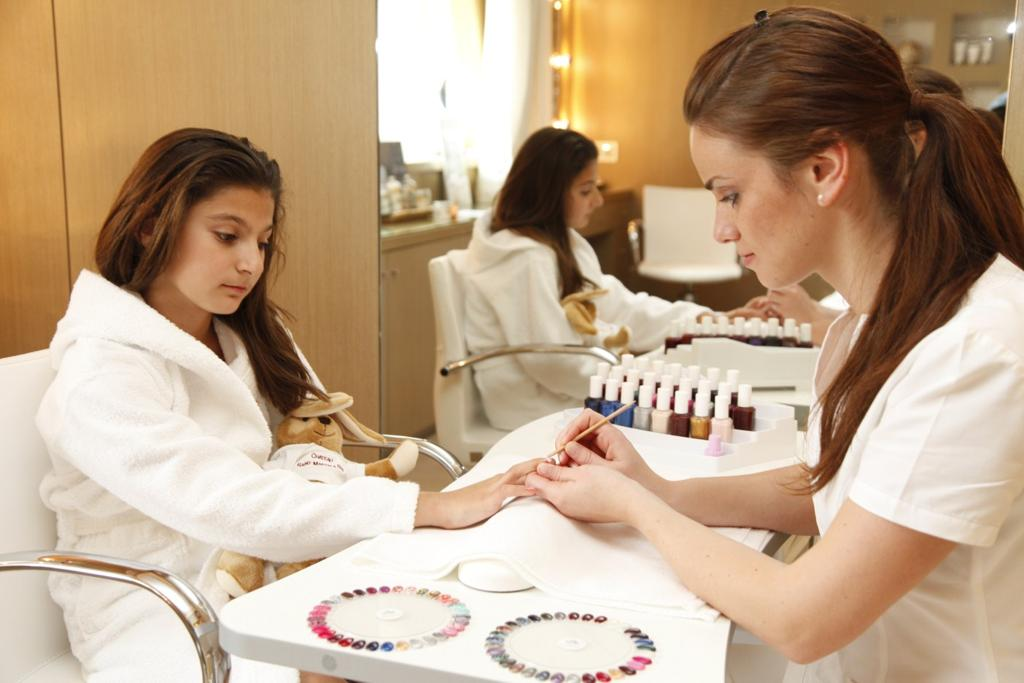face: (687, 122, 803, 289), (176, 184, 276, 314), (565, 157, 605, 229)
